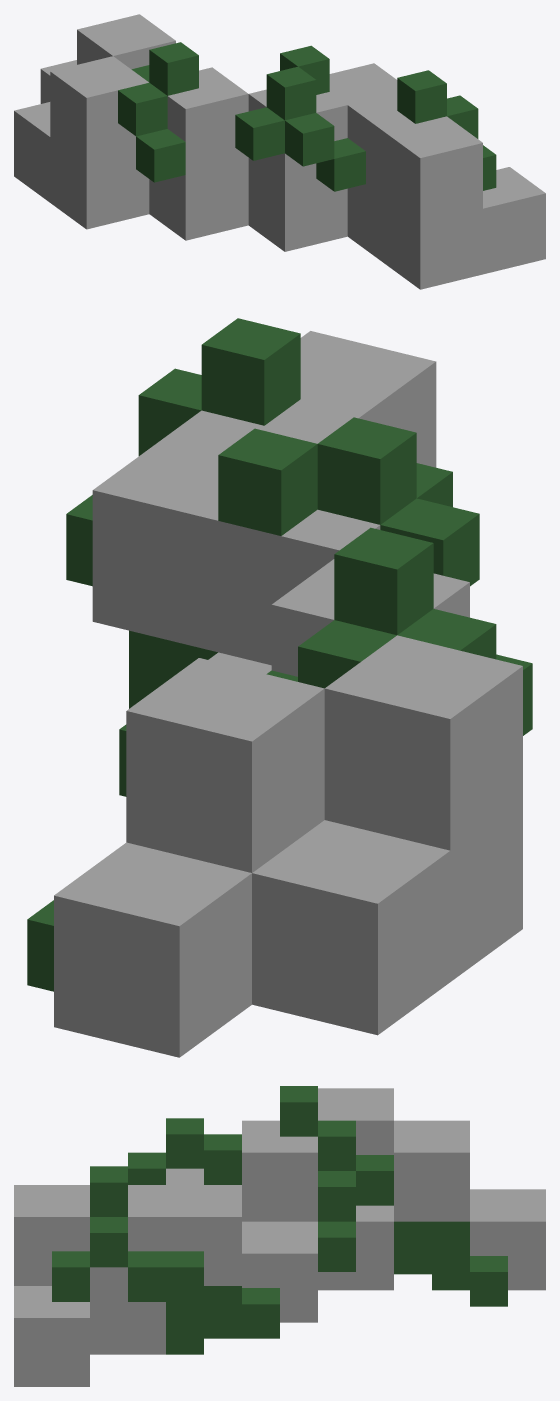
File: obstacle-left front.obj
3 renders of one model, top to bottom at view 1: azimuth 30°, elevation 25°; view 2: azimuth 150°, elevation 25°; view 3: azimuth 270°, elevation 25°, orthographic. The views are drawn at different scales.
Bounding box in the file's own units: 1 × 0.5 × 1.4.
1 material, 1 textured.
